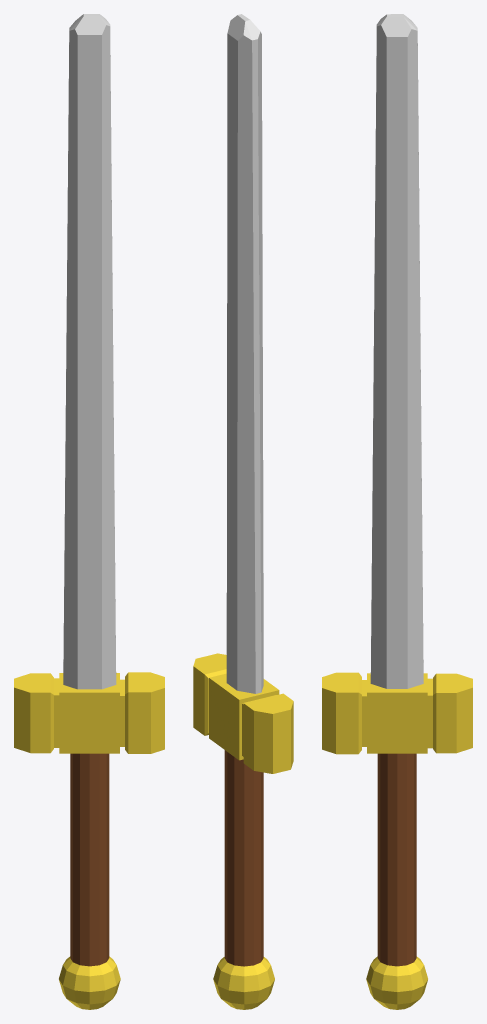
Rendered from Sword.fbx.
3 renders of one model, left to right at view 1: azimuth 90°, elevation 25°; view 2: azimuth 210°, elevation 25°; view 3: azimuth 270°, elevation 25°, orthographic.
Parts seen in each view (by area): view 1: Sword; view 2: Sword; view 3: Sword.
Part boxes in pixels (x1,y1,x2,y2): Sword: (14,14,164,1009); Sword: (193,14,293,1009); Sword: (322,14,472,1009).
Bounding box in the file's own units: 7.21 × 17.5 × 127.
